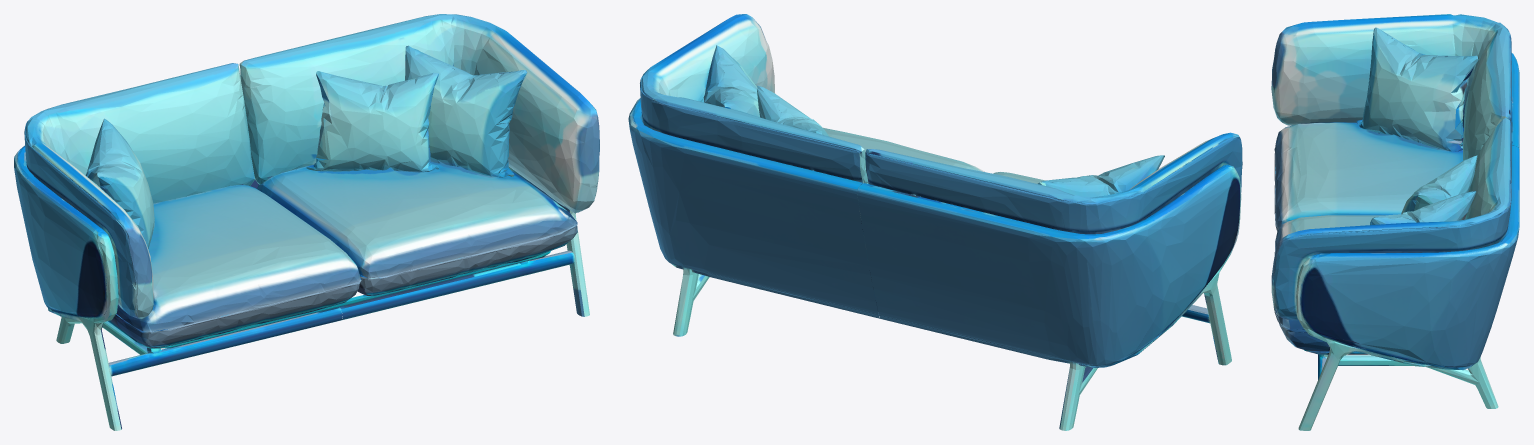
Rendered from edited_mesh.glb.
3 renders of one model, left to right at view 1: azimuth 30°, elevation 25°; view 2: azimuth 150°, elevation 25°; view 3: azimuth 270°, elevation 25°, orthographic. The views are drawn at different scales.
Parts seen in each view (by area): view 1: solid_001_wire; view 2: solid_001_wire; view 3: solid_001_wire.
Boxes of the visible parts, box(x1,y1,x2,y2) form: solid_001_wire: box(14, 14, 599, 430); solid_001_wire: box(628, 14, 1242, 430); solid_001_wire: box(1271, 14, 1519, 430).
Bounding box in the file's own units: 2 × 0.8758 × 0.9391.
1 material, 1 textured.
